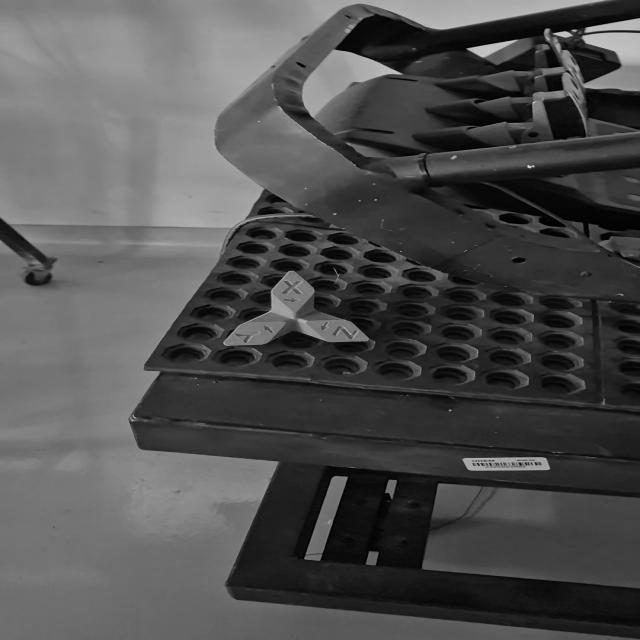eje: (220, 270, 371, 347)
